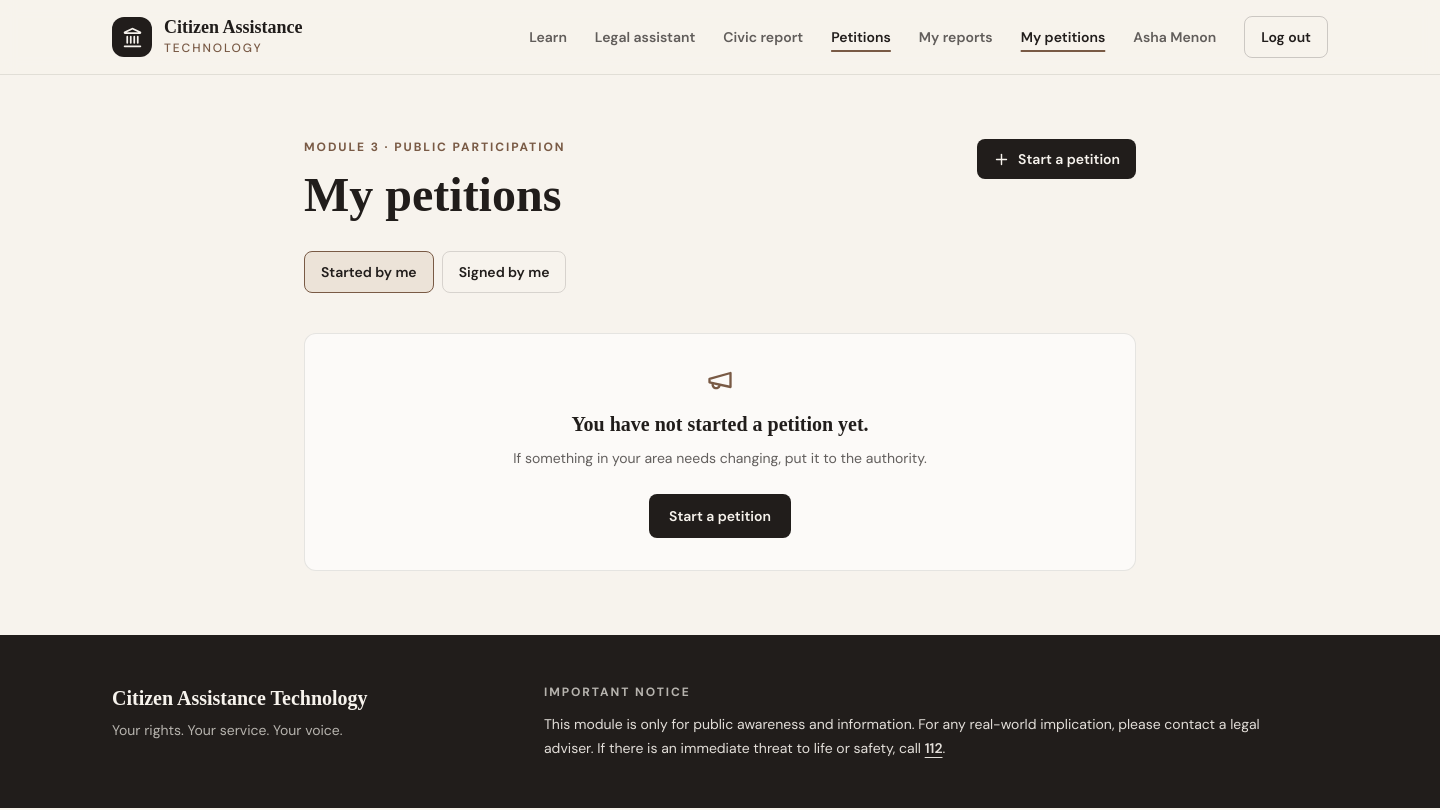
Test: MyPetitionsPage › shows a browse-specific empty state on the signed tab
Check: the heading "My petitions" is shown, box [304, 171, 565, 219]
Check: the text "You have not started a petition yet." is shown, box [571, 413, 869, 435]
Click the tab "Signed by me" at (504, 272), box [442, 251, 566, 293]
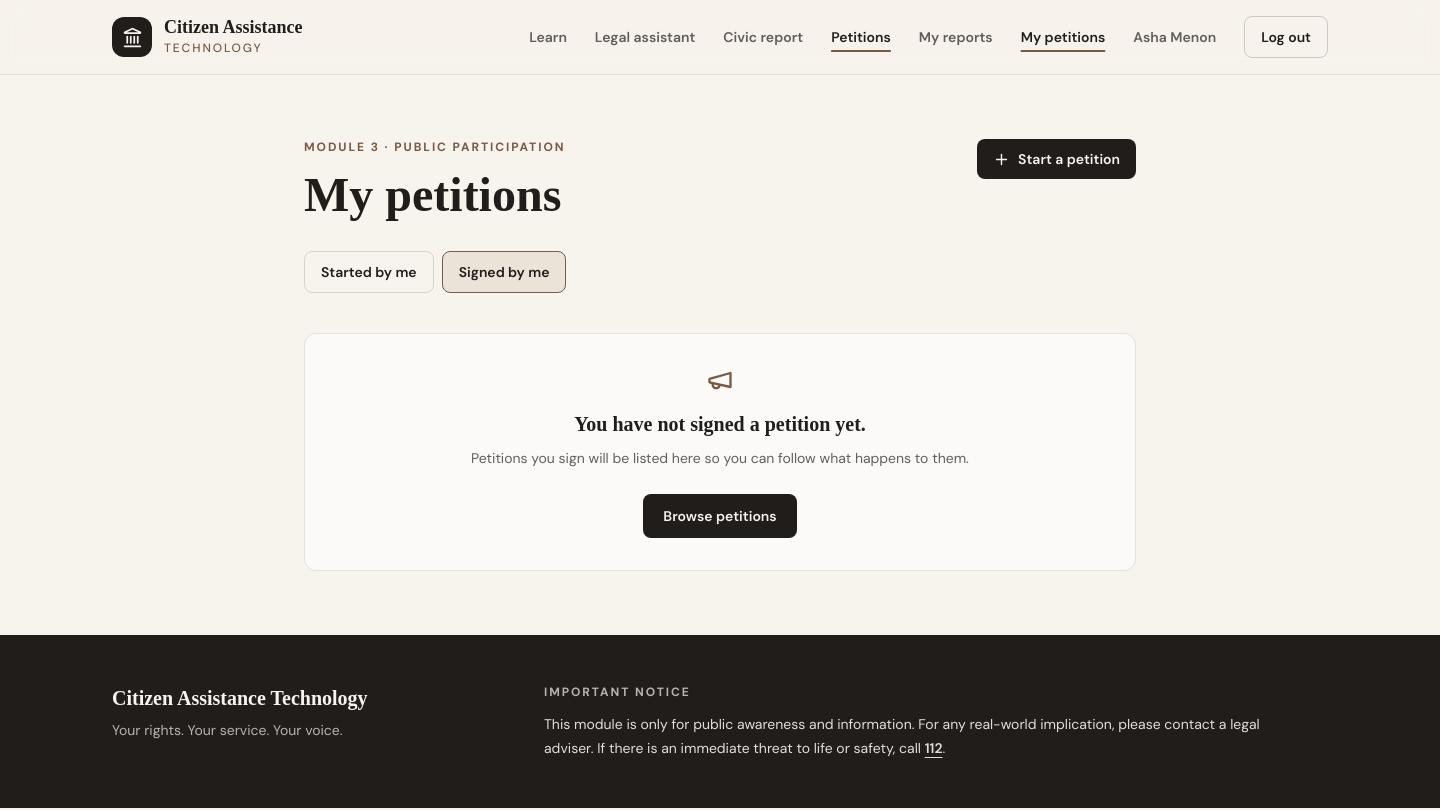
Check: the text "You have not signed a petition yet." is shown, box [574, 413, 866, 435]
Check: the link "Browse petitions" is shown, box [643, 494, 797, 538]
